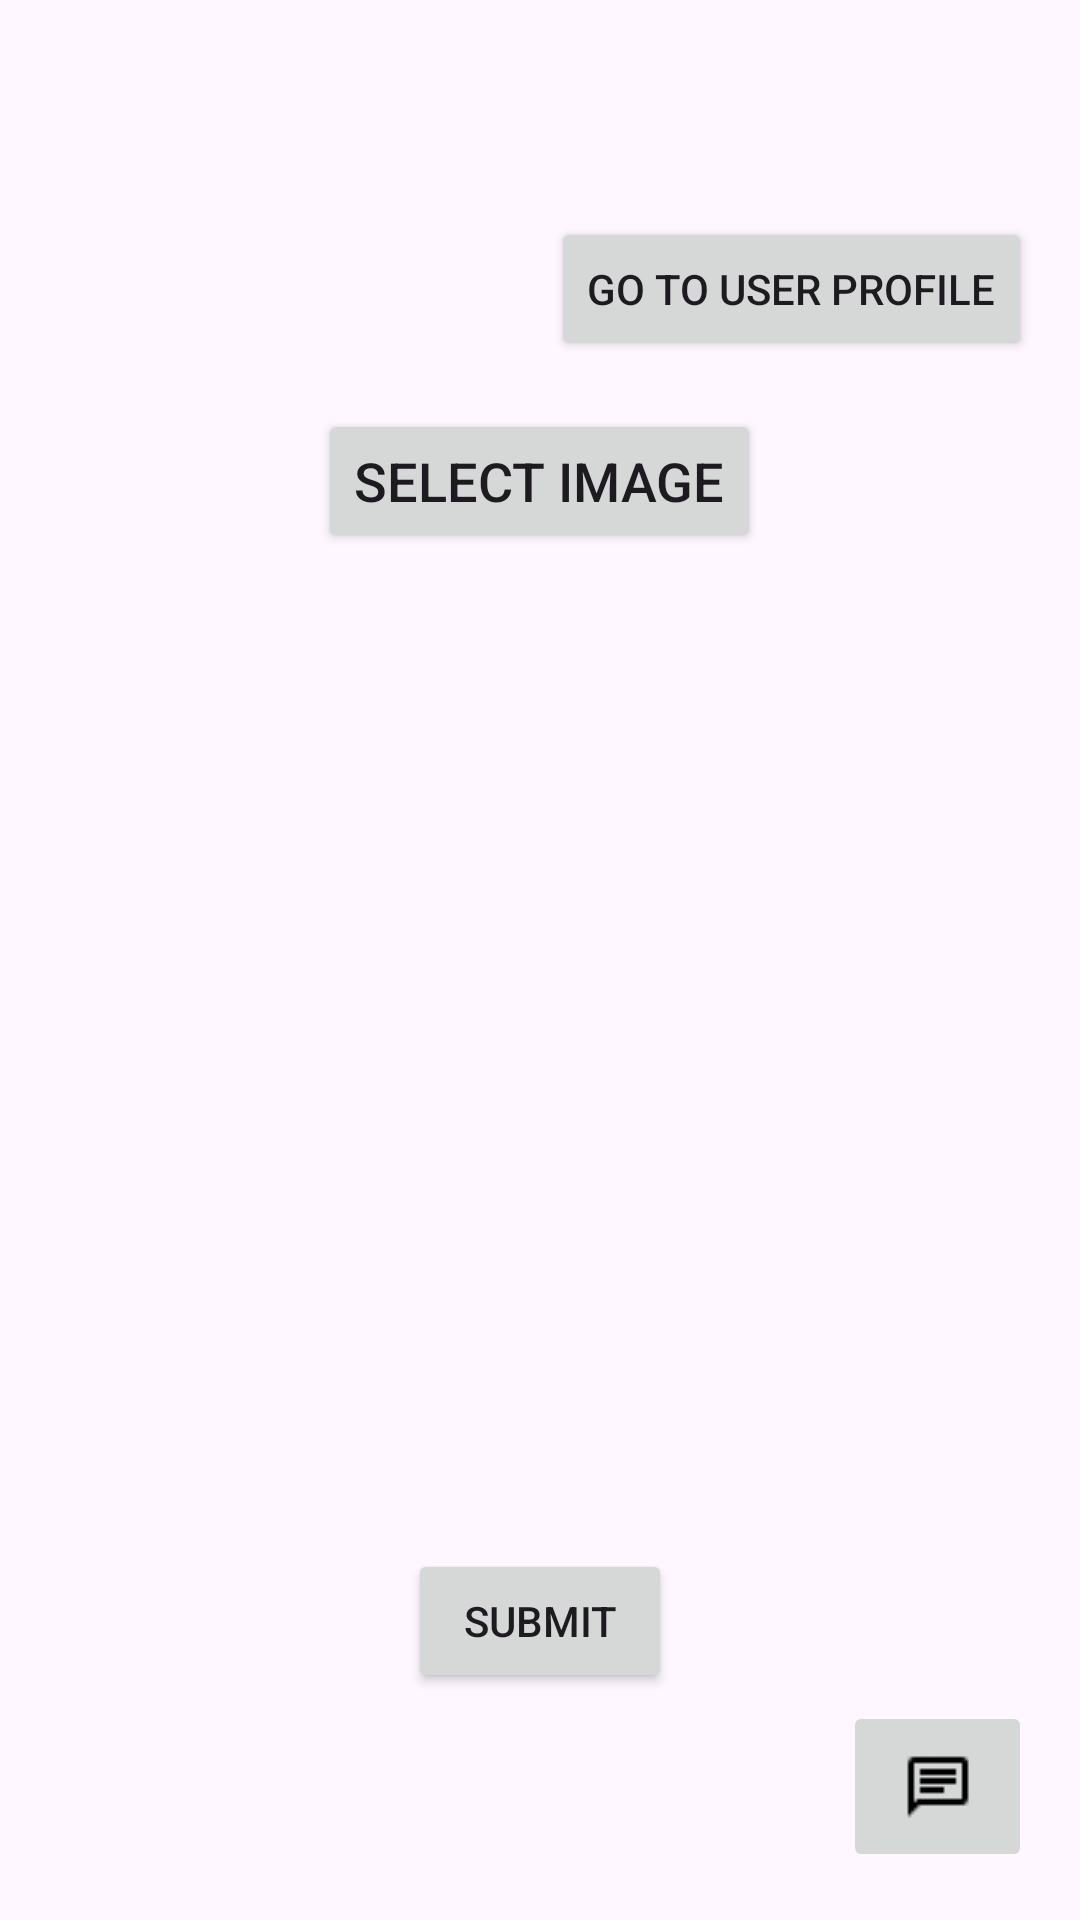

Locate icon controls on the screen. Image size 1080 × 1920, boxes as (x1, y1, x2, y2).
chat: (855, 1719, 1020, 1854)
